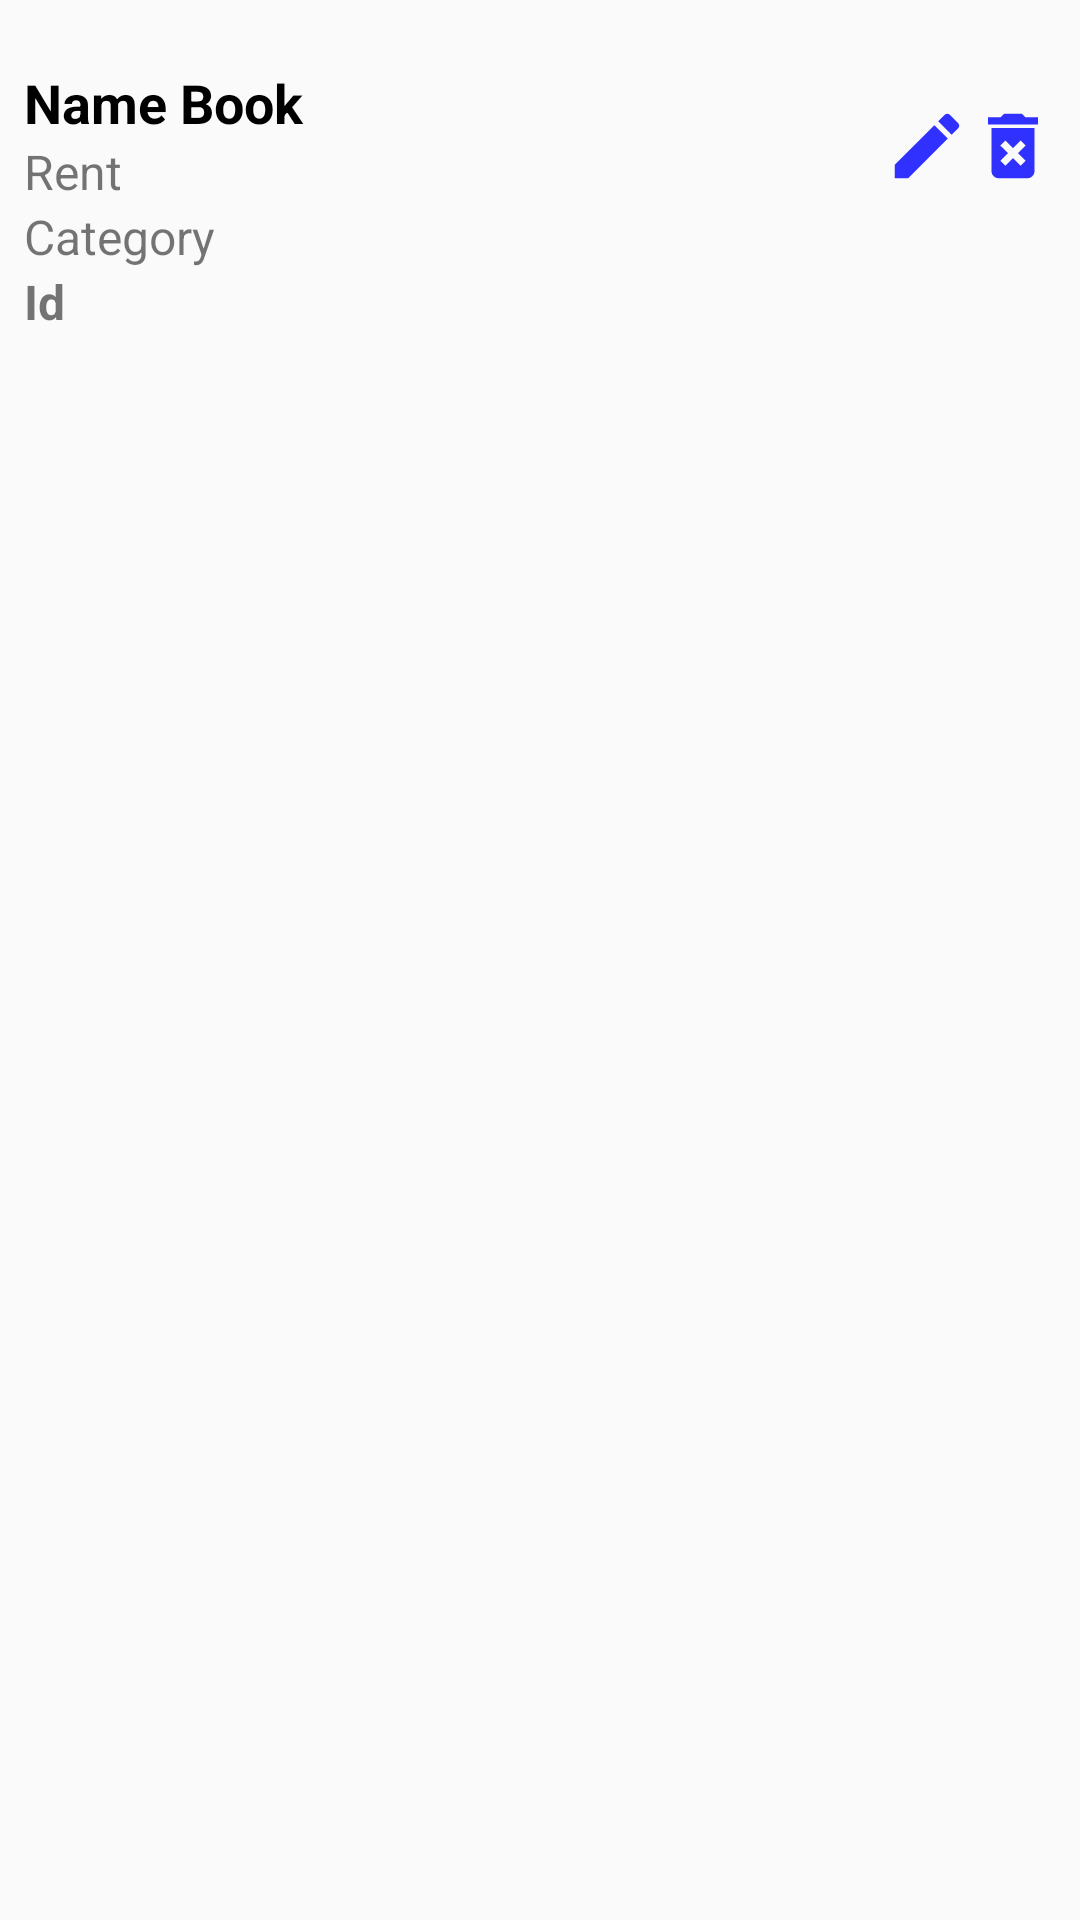

Point at icon controls on the screen. Image size 1080 × 1920, points as (x,y).
delete: (1013,146)
edit: (927,146)
